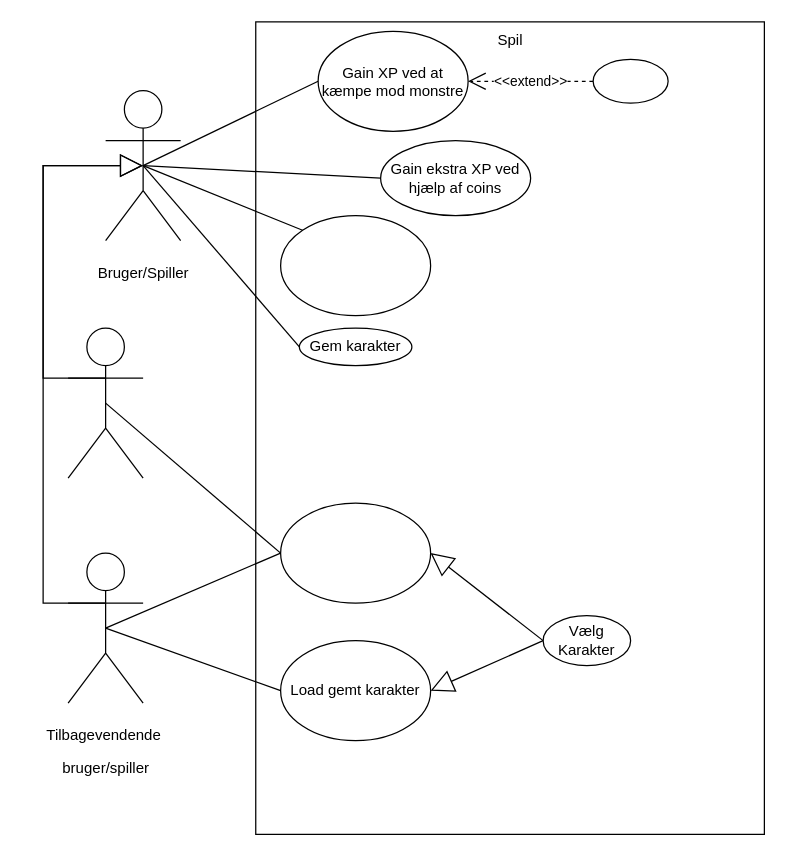
Image size: 786x856. Some labels were removed from this diagram. The shapes that lost their labels are listed below. From the top down, each one's centre as x and y in pixels, then its label:
At [630,80]: "Stig i Lvl".
At [355,265]: "Undvig for svære monstre".
At [105,402]: "Ny bruger/s piller".
At [355,552]: "Start ny karakter".
